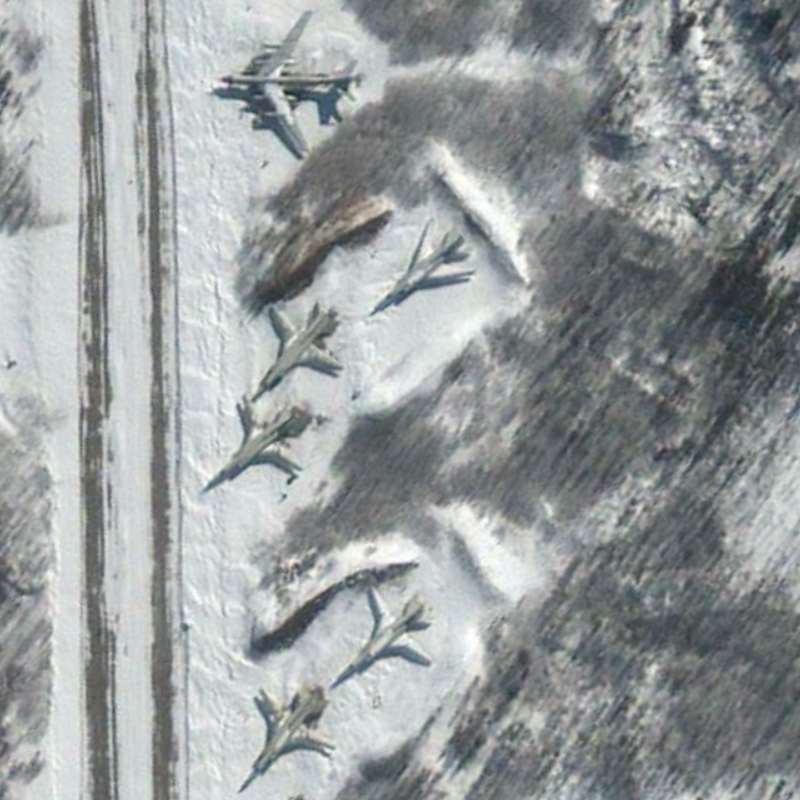A12: (197, 392, 319, 494), (326, 580, 437, 692), (234, 682, 339, 796), (364, 215, 477, 320), (249, 299, 348, 405)
A17: (215, 8, 367, 165)
